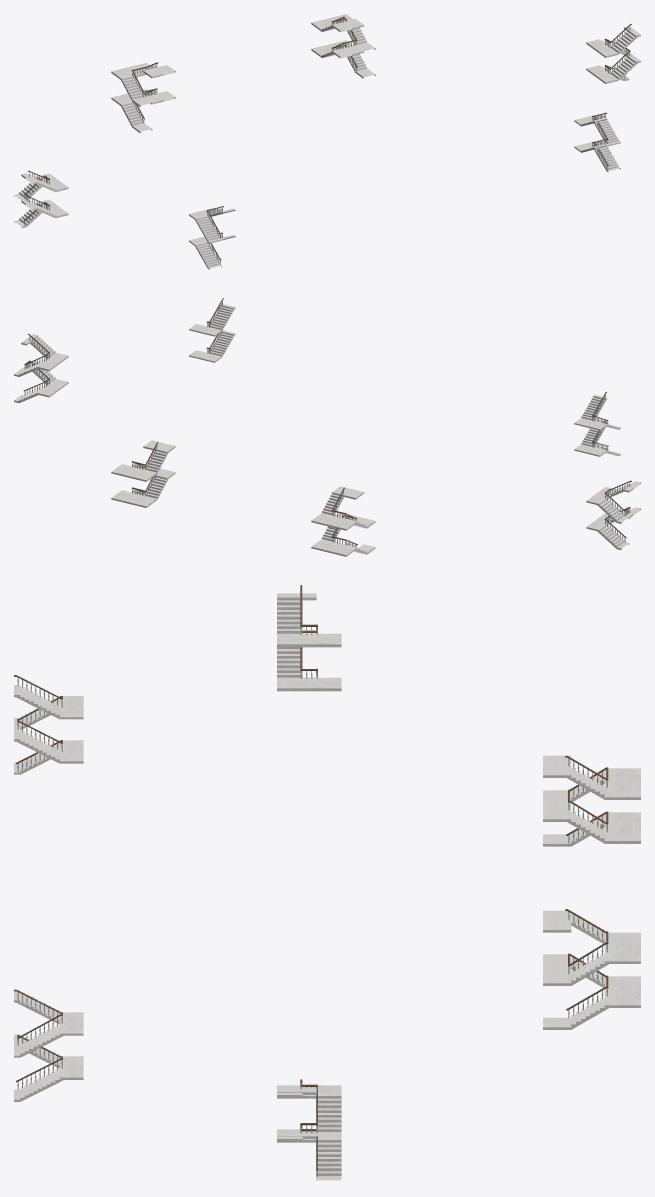
File: staris.fbx
3 views of the same model, one above another, from view 1: azimuth 30°, elevation 25°; view 2: azimuth 150°, elevation 25°; view 3: azimuth 270°, elevation 25° (orthographic). The views are drawn at different scales.
Visible parts, largest first — view 1: polySurface6623, polySurface6622, polySurface6538, polySurface6539, polySurface6456, polySurface6454; view 2: polySurface6623, polySurface6622, polySurface6538, polySurface6539, polySurface6454, polySurface6456; view 3: polySurface6622, polySurface6623, polySurface6539, polySurface6538, polySurface6454, polySurface6456.
Part boxes in pixels (left/top/right/bottom): polySurface6623: left=111, top=63, right=175, bottom=133; polySurface6622: left=311, top=14, right=375, bottom=78; polySurface6538: left=586, top=26, right=640, bottom=83; polySurface6539: left=14, top=173, right=68, bottom=228; polySurface6456: left=189, top=207, right=235, bottom=269; polySurface6454: left=574, top=114, right=620, bottom=172; polySurface6623: left=311, top=486, right=375, bottom=556; polySurface6622: left=111, top=440, right=175, bottom=507; polySurface6538: left=14, top=334, right=68, bottom=402; polySurface6539: left=586, top=481, right=640, bottom=549; polySurface6454: left=189, top=304, right=235, bottom=362; polySurface6456: left=574, top=394, right=620, bottom=456; polySurface6622: left=543, top=910, right=640, bottom=1029; polySurface6623: left=543, top=755, right=640, bottom=846; polySurface6539: left=277, top=593, right=341, bottom=691; polySurface6538: left=277, top=1085, right=341, bottom=1180; polySurface6454: left=14, top=990, right=83, bottom=1101; polySurface6456: left=14, top=685, right=83, bottom=774.
Size of the model in its own units: 119 by 11.26 by 63.38.
